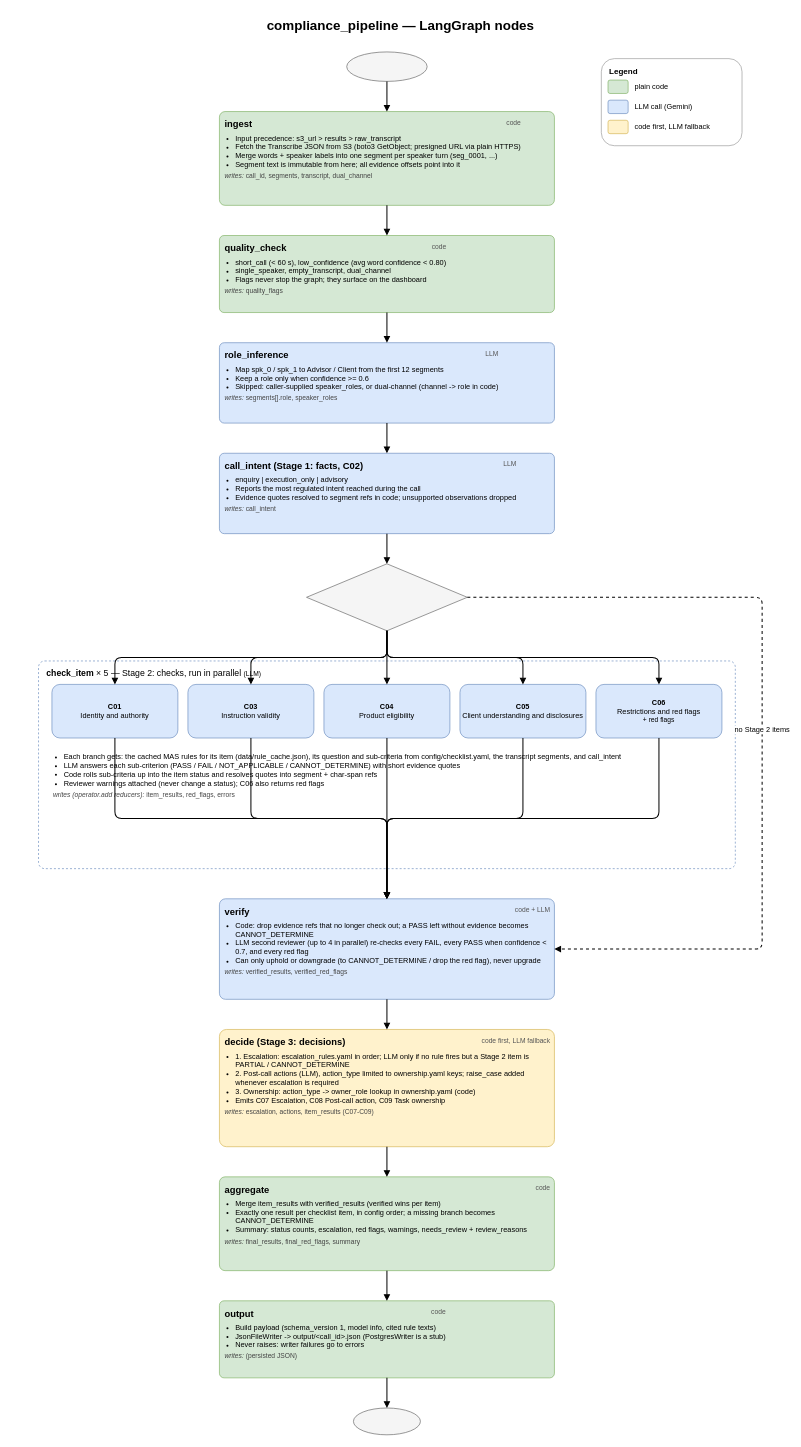
The diagram is 801 pixels wide and 1447 high, and some of its shapes have lost their labels. The centre of each missing label's shape, as x and y in pixels:
"_route_to_checks conditional edge Send() one branch per Stage 2 item" goes at point (386, 597).
"END" goes at point (386, 1421).
"START input: s3_url" goes at point (386, 66).
